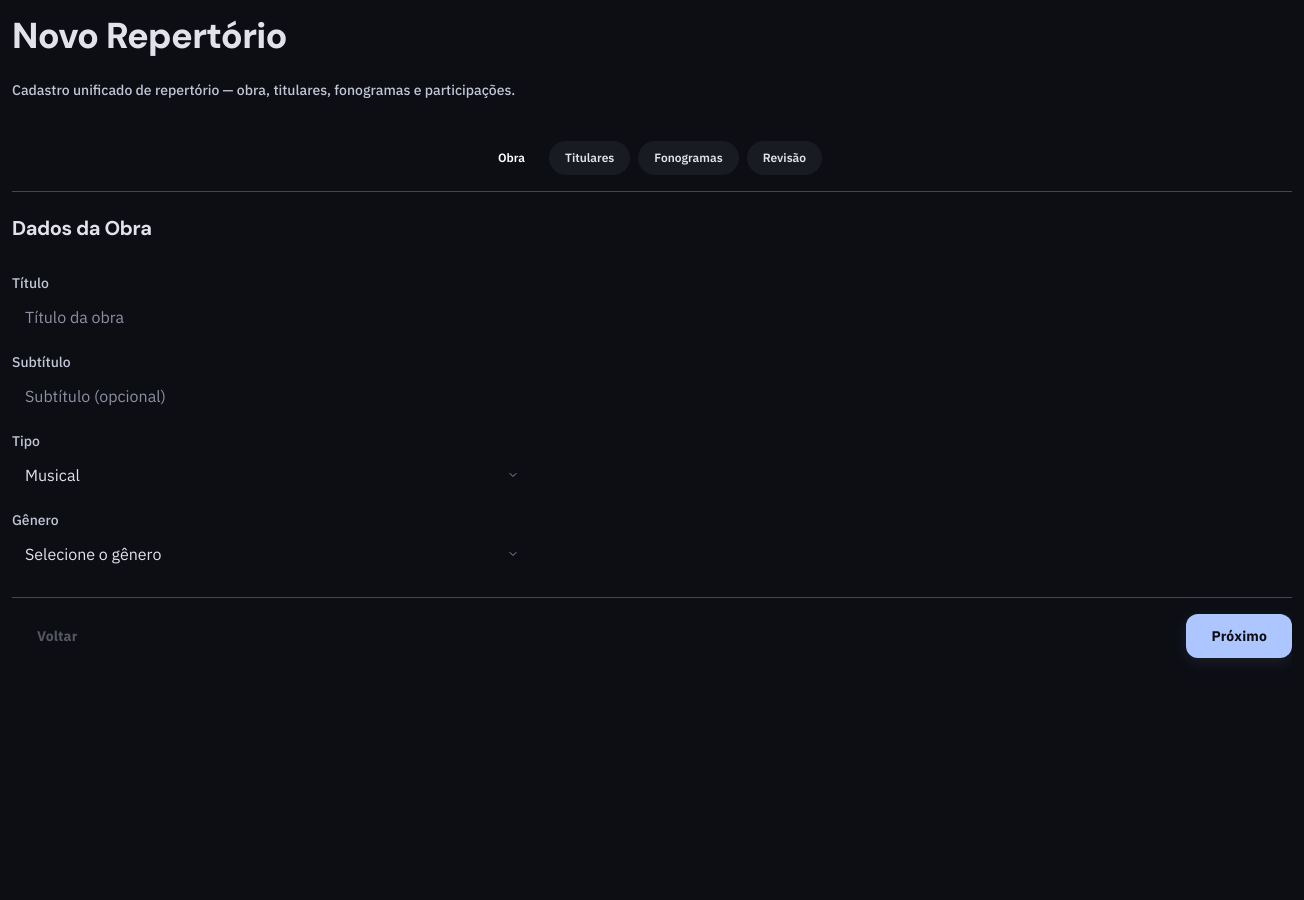
Test case: CadastroRepertorioPage › cannot advance past step 1 without obra title
Click the button "Próximo".
click(1239, 636)  # box top-left (1186, 614), bottom-right (1292, 658)
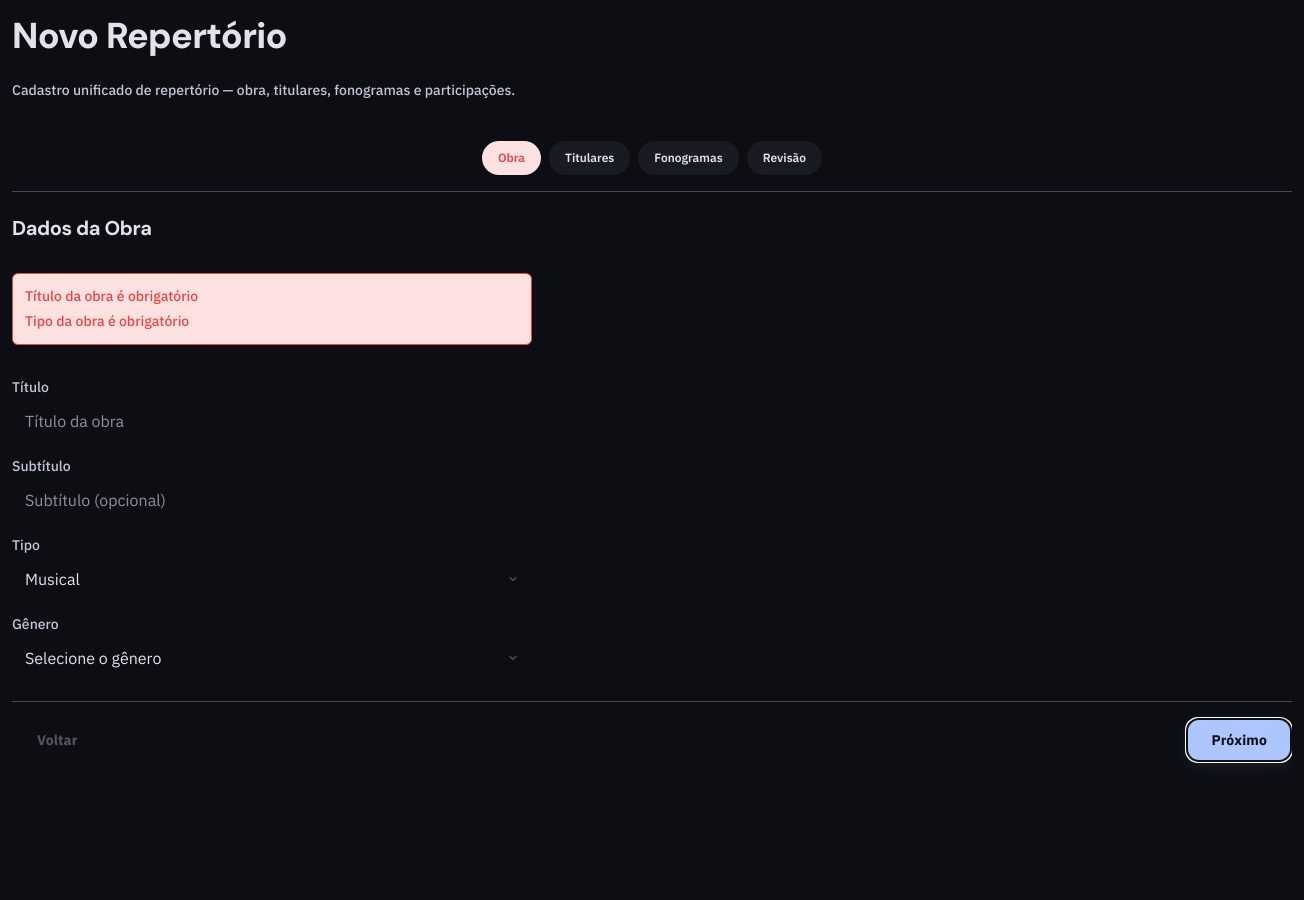
Expected: the heading "Dados da Obra" is shown, top-left (12, 215), bottom-right (152, 241)
Result: the text "Título da obra é obrigatório" is shown at top-left (25, 287), bottom-right (198, 305)
